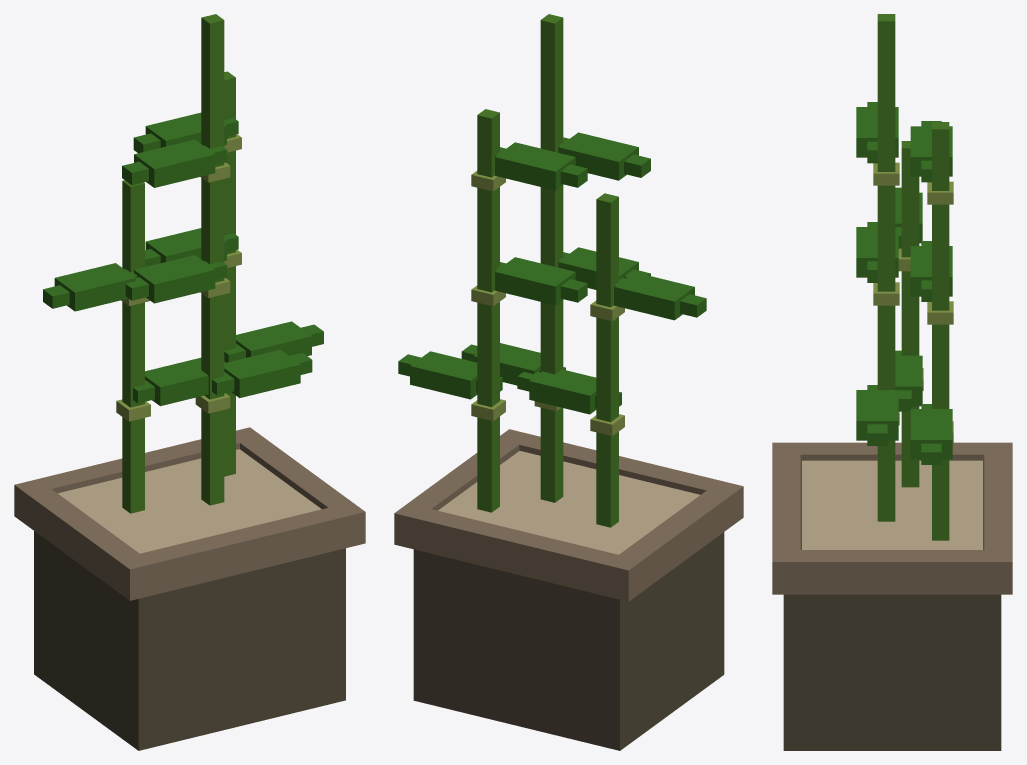
The model's file is CMU3DPottedPlant29.glb.
The picture shows the model from 3 angles, left to right: view 1: azimuth 30°, elevation 25°; view 2: azimuth 150°, elevation 25°; view 3: azimuth 270°, elevation 25°; orthographic projection. The views are drawn at different scales.
Parts seen in each view (by area): view 1: square pot body, stem (×3), leaf center (×8), exposed soil, end rim (×2), long rim (×2), leaf tip (×4); view 2: square pot body, stem (×3), leaf center (×8), exposed soil, end rim (×2), long rim (×2); view 3: square pot body, stem (×3), long rim (×2), exposed soil, leaf center (×8), end rim (×2), bamboo node (×4), leaf tip (×2).
Boxes of the visible parts, bbox=[...] form: square pot body: bbox=[34, 531, 345, 750]; stem (×3): bbox=[122, 14, 235, 513]; leaf center (×8): bbox=[54, 112, 311, 406]; exposed soil: bbox=[58, 449, 321, 553]; end rim (×2): bbox=[38, 439, 341, 594]; long rim (×2): bbox=[14, 427, 365, 600]; leaf tip (×4): bbox=[122, 117, 312, 395]; square pot body: bbox=[413, 532, 724, 750]; stem (×3): bbox=[477, 14, 618, 527]; leaf center (×8): bbox=[410, 132, 694, 414]; exposed soil: bbox=[438, 451, 699, 554]; end rim (×2): bbox=[417, 435, 719, 595]; long rim (×2): bbox=[394, 429, 743, 601]; square pot body: bbox=[783, 465, 1001, 750]; stem (×3): bbox=[877, 14, 949, 540]; long rim (×2): bbox=[772, 442, 1012, 594]; exposed soil: bbox=[802, 460, 982, 549]; leaf center (×8): bbox=[856, 107, 952, 459]; end rim (×2): bbox=[772, 454, 1012, 549]; bamboo node (×4): bbox=[873, 162, 953, 324]; leaf tip (×2): bbox=[867, 385, 941, 464].
Size of the model in its own units: 0.57 by 1.27 by 0.3994.
